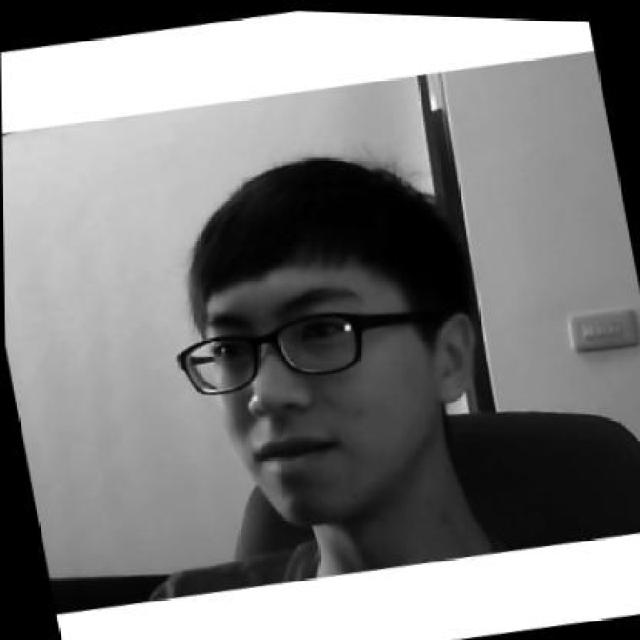attentif: (142, 125, 504, 542)
